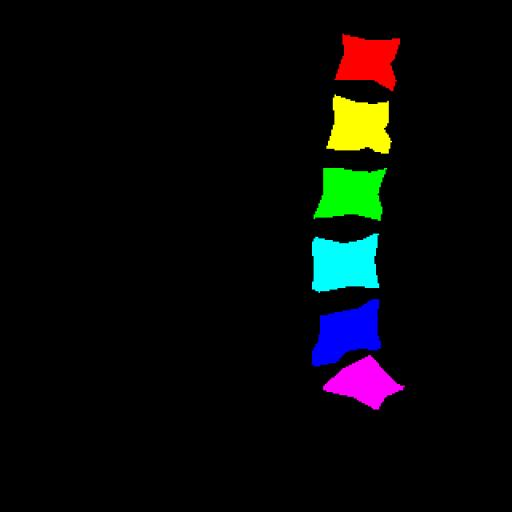L1: (335, 34, 400, 90)
L2: (326, 95, 389, 154)
L3: (314, 168, 386, 220)
L4: (310, 234, 379, 292)
L5: (312, 299, 380, 366)
S1: (323, 355, 404, 410)
